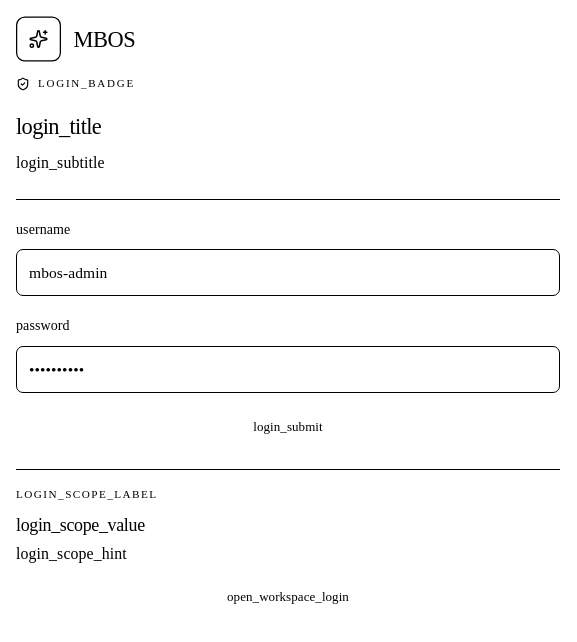
Test: SystemLoginPage › shows error when credentials are rejected
What coordinates should you click on to do the following:
click the button with test id "system-login__submit"
I would click on:
 (288, 427)
Its box is [16,409,560,445].
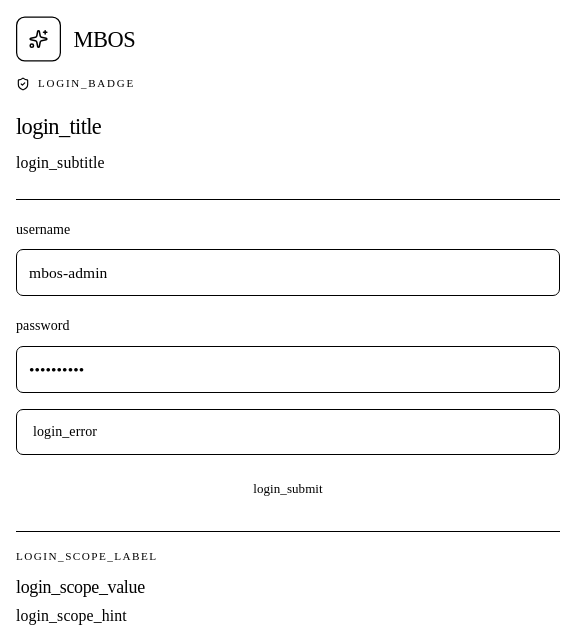
Expected: the text "login_error" is shown, [16,409,560,455]
